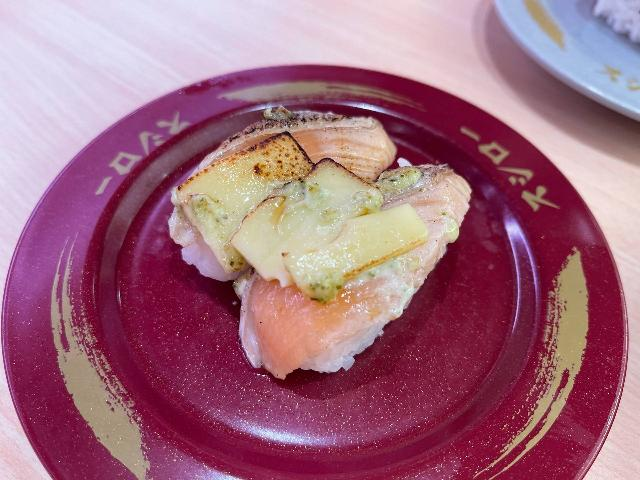janred: (36, 67, 601, 474)
janwhite: (471, 1, 640, 133)
